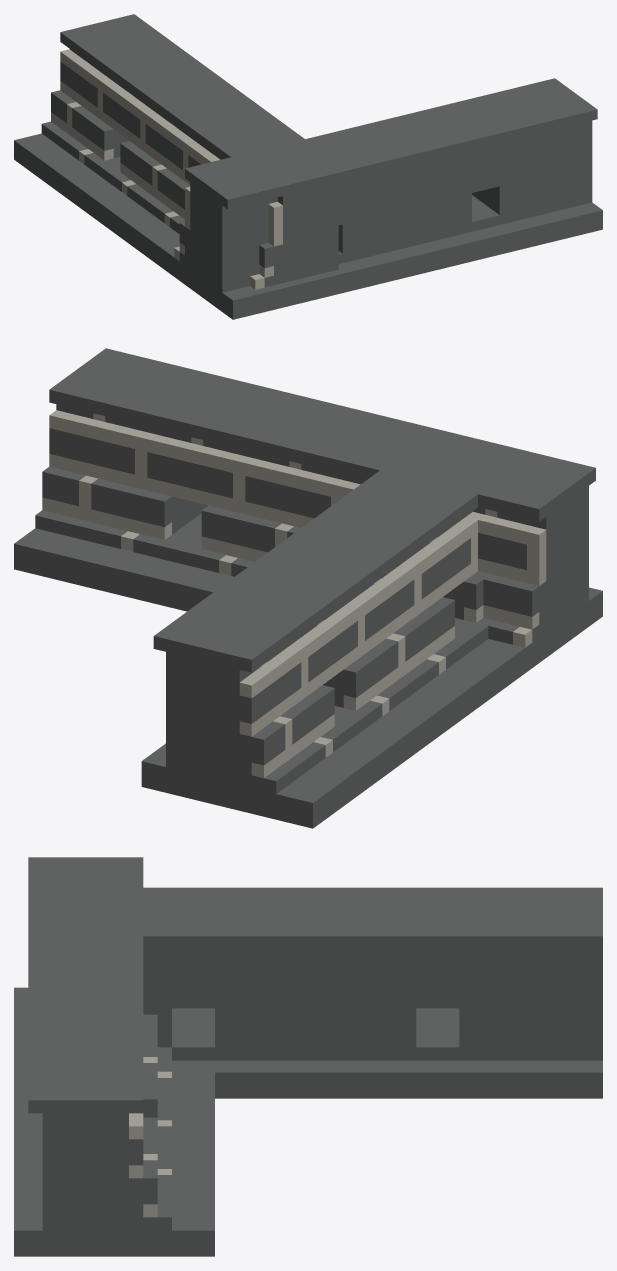
File: visual-far.glb
3 renders of one model, top to bottom at view 1: azimuth 30°, elevation 25°; view 2: azimuth 150°, elevation 25°; view 3: azimuth 270°, elevation 25°, orthographic. The views are drawn at different scales.
Visible parts, largest first — view 1: 挡墙转角高差与端头族; view 2: 挡墙转角高差与端头族; view 3: 挡墙转角高差与端头族.
Boxes of the visible parts, <box> form: 挡墙转角高差与端头族: <box>14,14,602,319</box>; 挡墙转角高差与端头族: <box>14,348,602,828</box>; 挡墙转角高差与端头族: <box>14,857,602,1256</box>.
Size of the model in its own units: 8 by 2.4 by 8.2.
2 materials, 2 textured.
